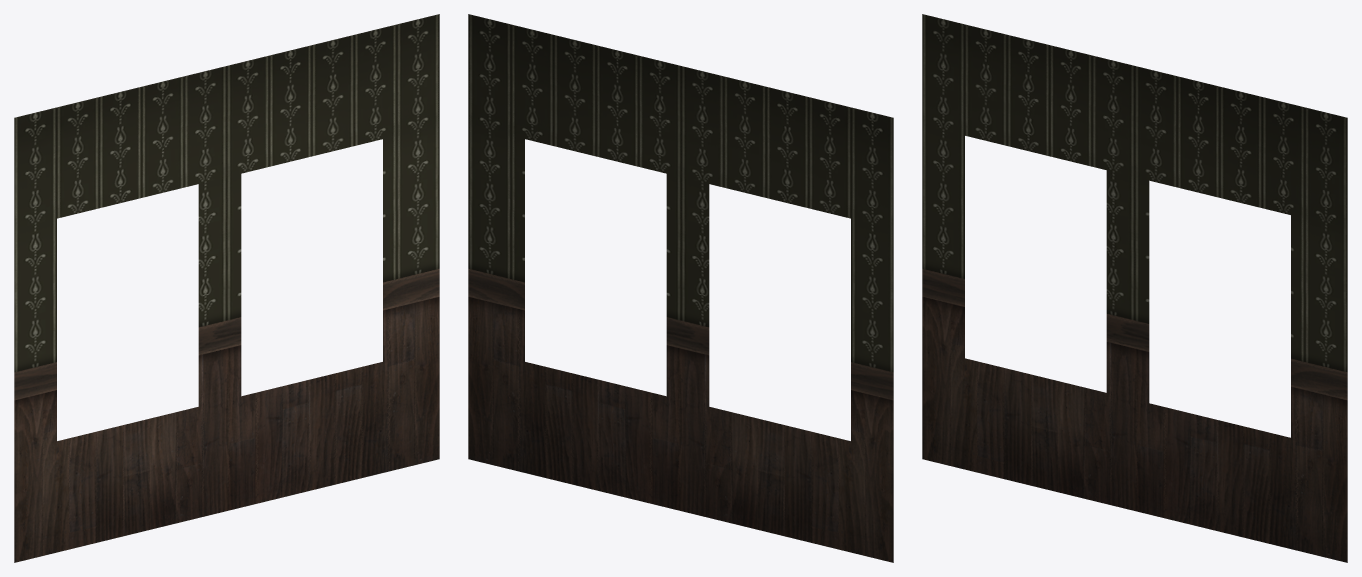
The model's file is Wall.WP_3x3_Window.Double.fbx.
3 renders of one model, left to right at view 1: azimuth 30°, elevation 25°; view 2: azimuth 150°, elevation 25°; view 3: azimuth 330°, elevation 25°, orthographic.
Visible parts, largest first — view 1: Wall.WP_3x3_Window.Double; view 2: Wall.WP_3x3_Window.Double; view 3: Wall.WP_3x3_Window.Double.
Part boxes in pixels (bbox=[...]): Wall.WP_3x3_Window.Double: bbox=[14, 14, 439, 562]; Wall.WP_3x3_Window.Double: bbox=[468, 14, 893, 562]; Wall.WP_3x3_Window.Double: bbox=[922, 14, 1347, 562].
Bounding box in the file's own units: 300 × 300 × 4.01e-05.
